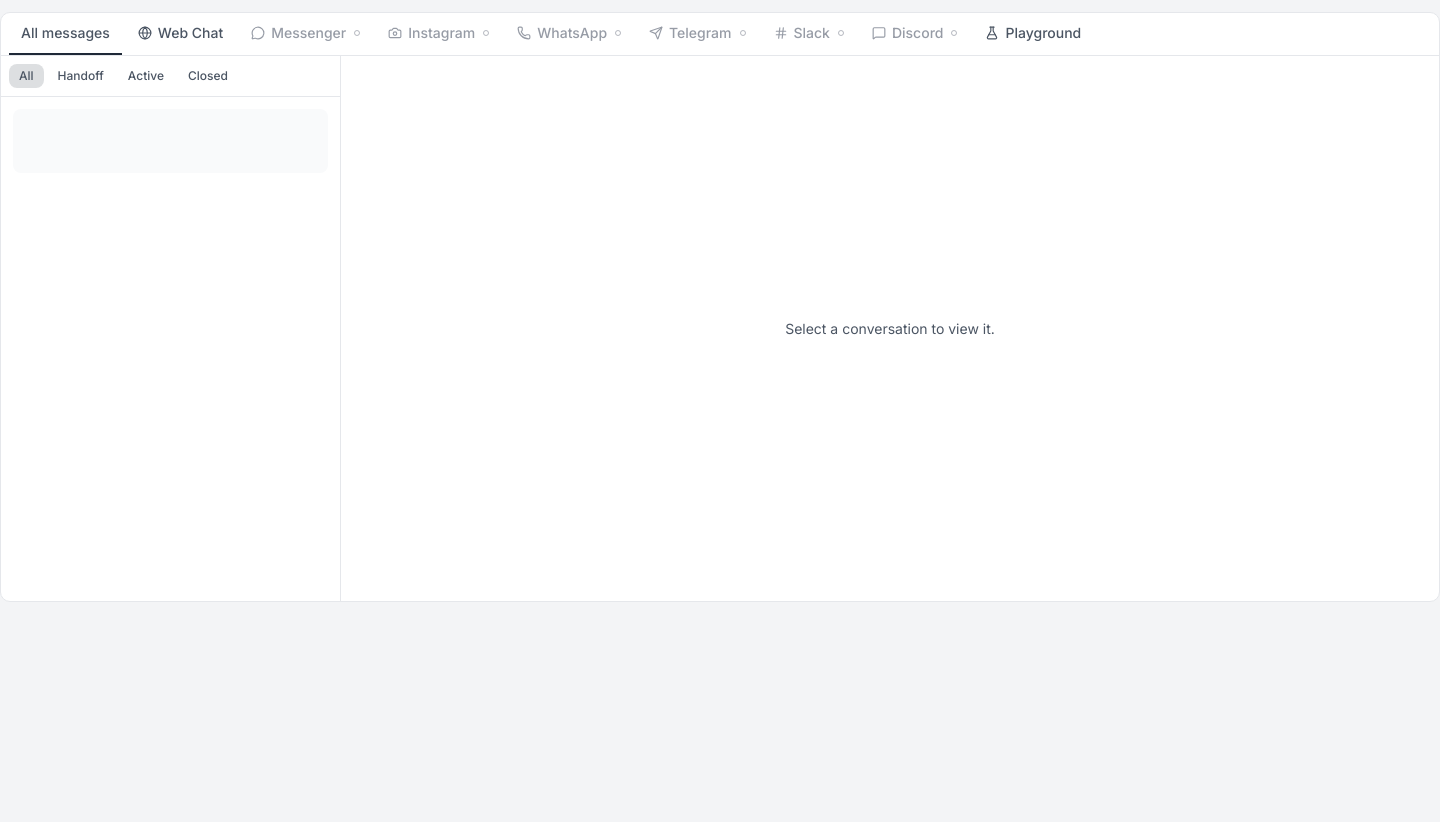
Test: not-connected channel state › keeps 'Nothing in the inbox yet.' for a connected channel with no messages
Click the tab "WhatsApp" at (569, 34), box [505,13,633,55]
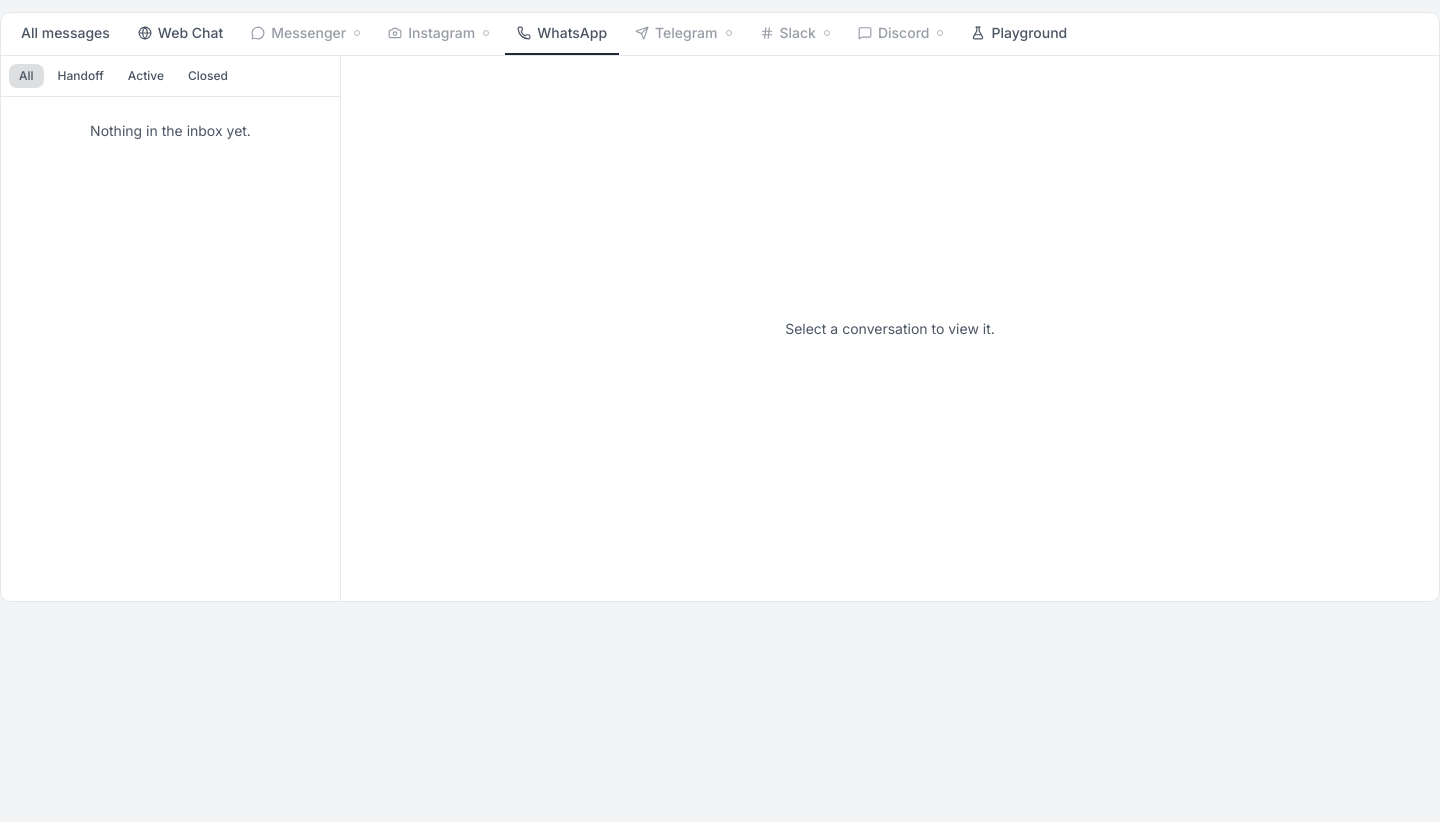
Result: the text "Nothing in the inbox yet." is shown at [90,122,251,139]
